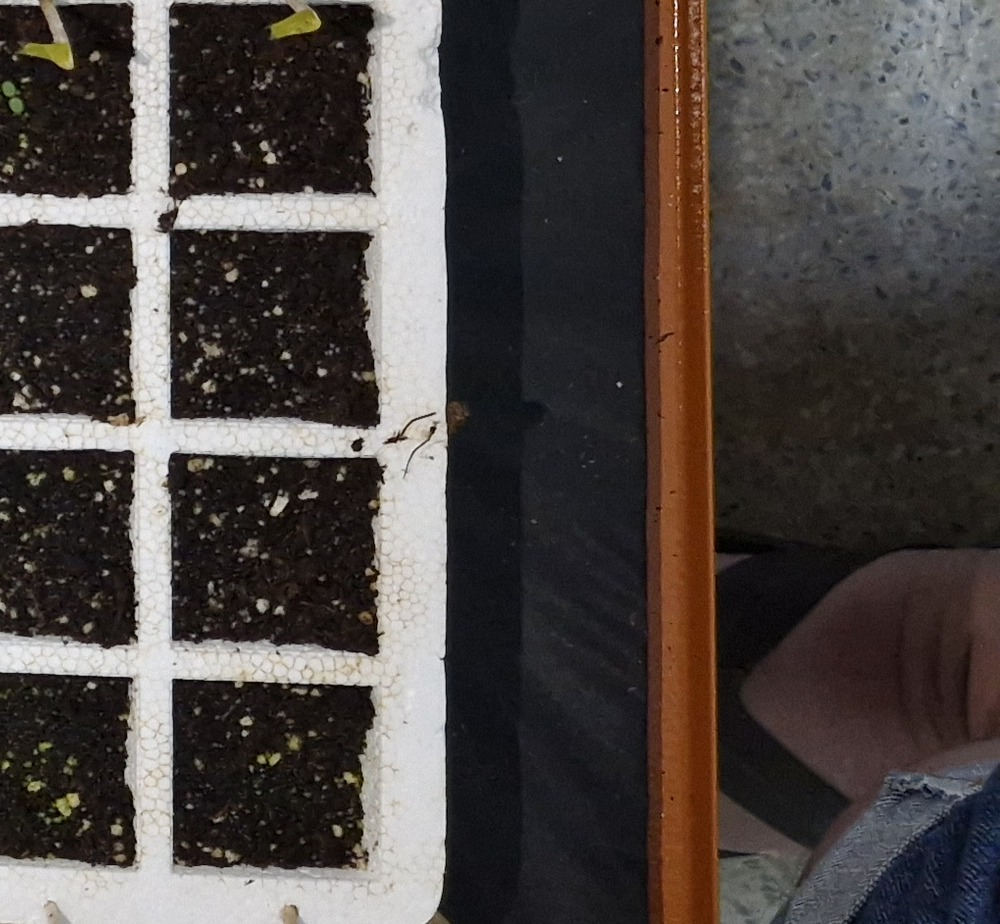Folha: (9, 98, 23, 112), (3, 82, 15, 96)
Germinacao: (2, 81, 24, 113)
